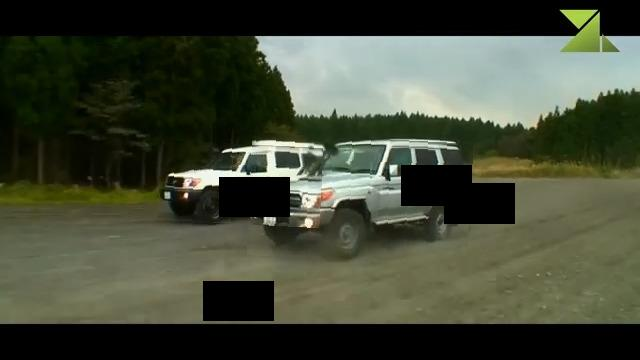MIL_HMMWV: (248, 135, 472, 264), (159, 143, 323, 227)
